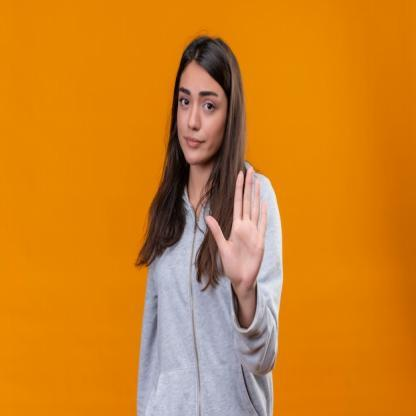stop: (204, 166, 268, 300)
